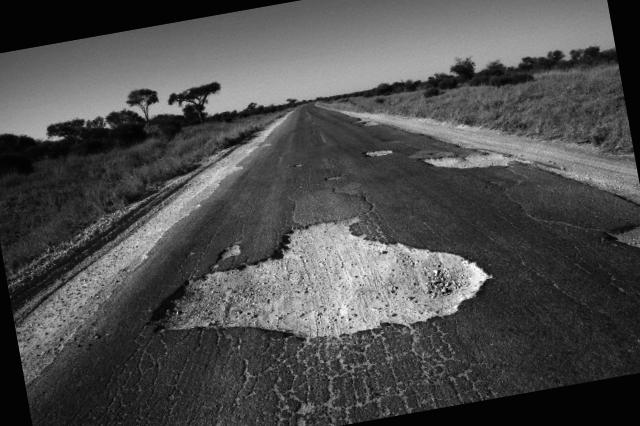Pothole: (133, 185, 512, 372), (419, 137, 518, 190), (593, 208, 640, 263), (354, 136, 406, 168)
